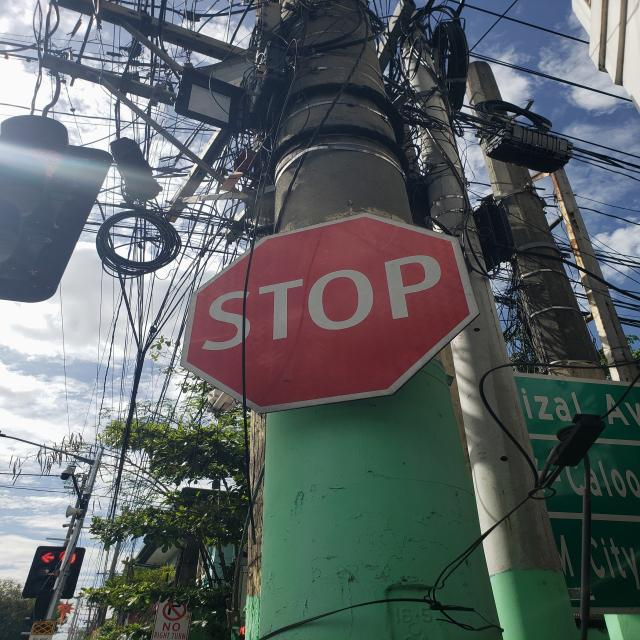stop-sign: (180, 212, 482, 414)
